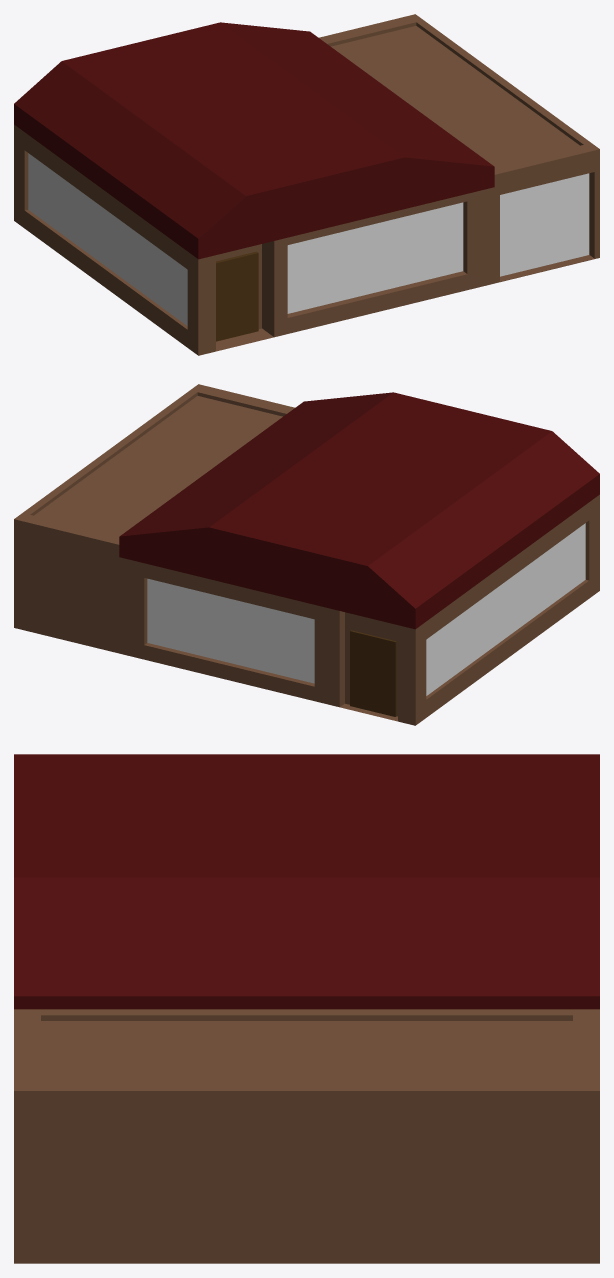
File: house 1 L.fbx
The picture shows the model from 3 angles, top to bottom: view 1: azimuth 30°, elevation 25°; view 2: azimuth 150°, elevation 25°; view 3: azimuth 270°, elevation 25°; orthographic projection. The views are drawn at different scales.
Visible parts, largest first — view 1: Cube; view 2: Cube; view 3: Cube.
Boxes of the visible parts, left/top/right/bottom form: Cube: left=14, top=14, right=599, bottom=355; Cube: left=14, top=384, right=599, bottom=725; Cube: left=14, top=754, right=599, bottom=1263.
Bounding box in the file's own units: 718 × 254 × 572.
